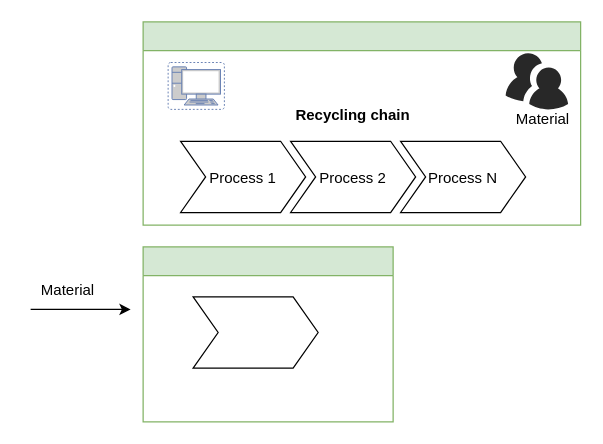
Some shapes in this 603 by 444 pixel diagram are drawn without their labels. The box of each missing label's shape, as (x1, y1, x2, y2) in pixels:
System level: (142, 21, 581, 225)
Unit process level: (142, 246, 393, 422)
